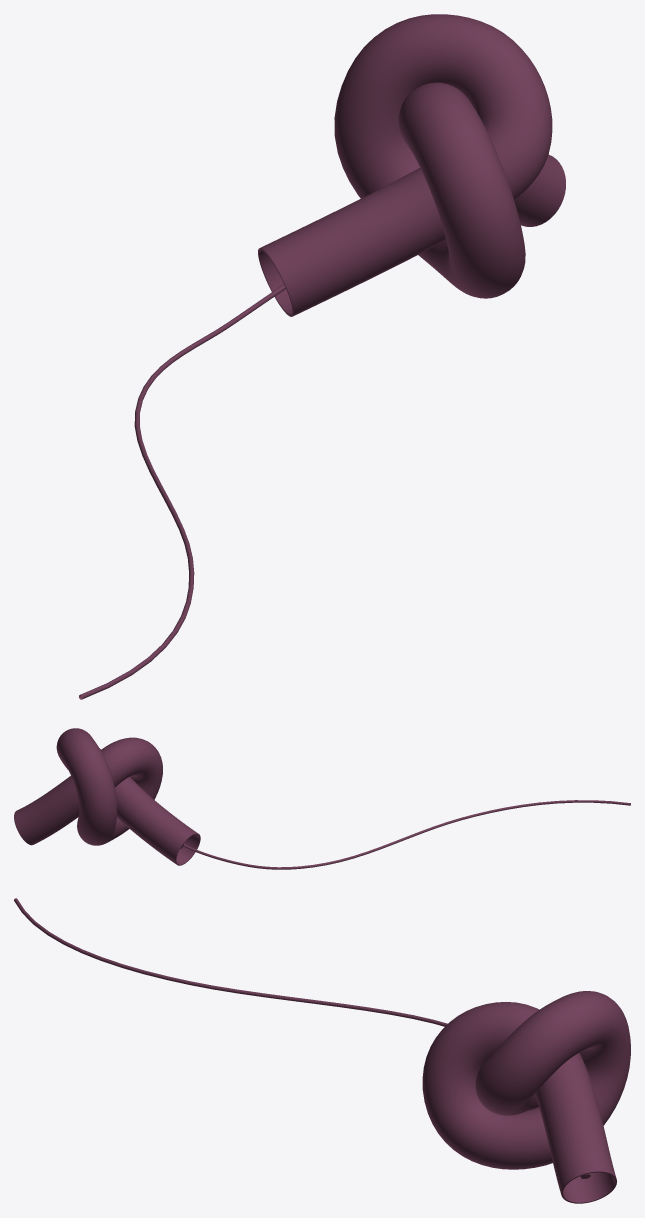
Rendered from Spiral.fbx.
The picture shows the model from 3 angles, top to bottom: view 1: azimuth 30°, elevation 25°; view 2: azimuth 150°, elevation 25°; view 3: azimuth 270°, elevation 25°; orthographic projection. The views are drawn at different scales.
Visible parts, largest first — view 1: elledecor_beinspiration_04; view 2: elledecor_beinspiration_04; view 3: elledecor_beinspiration_04.
Part boxes in pixels (box(x1,y1,x2,y2)): elledecor_beinspiration_04: box(79, 14, 565, 699); elledecor_beinspiration_04: box(14, 728, 630, 869); elledecor_beinspiration_04: box(14, 898, 630, 1203).
Size of the model in its own units: 131 by 34.05 by 108.
